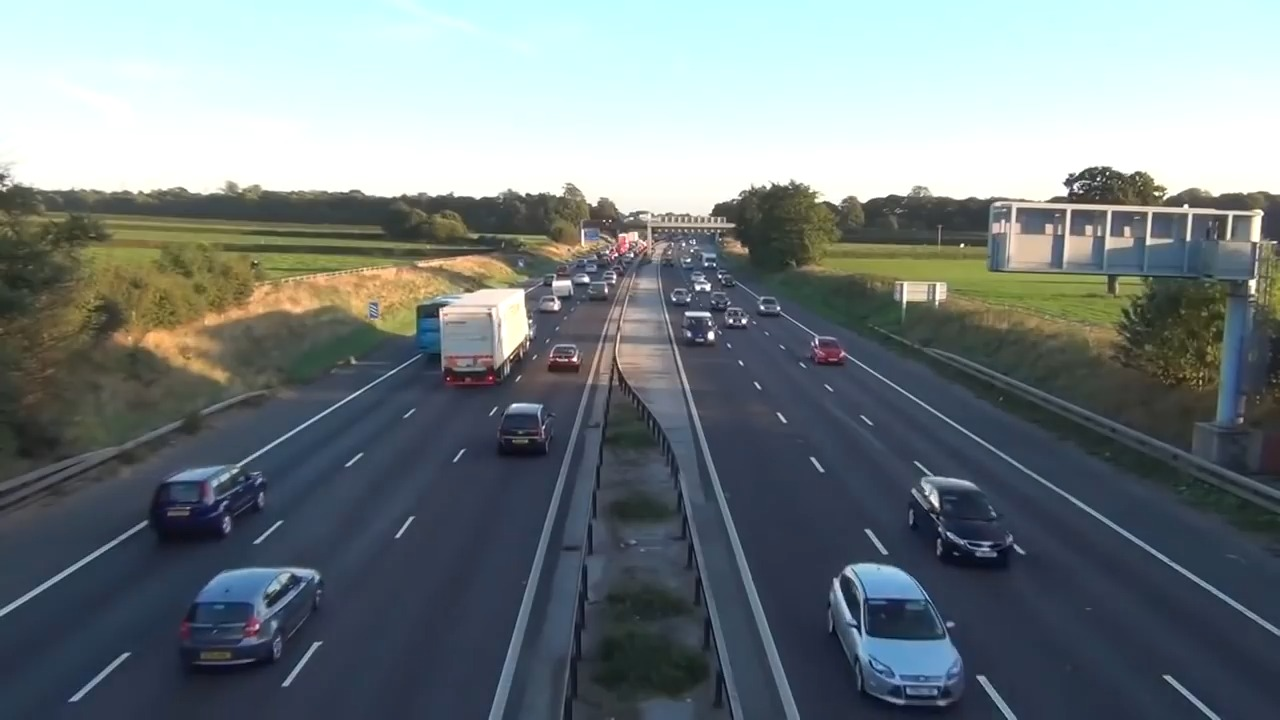truck: (430, 279, 538, 386)
